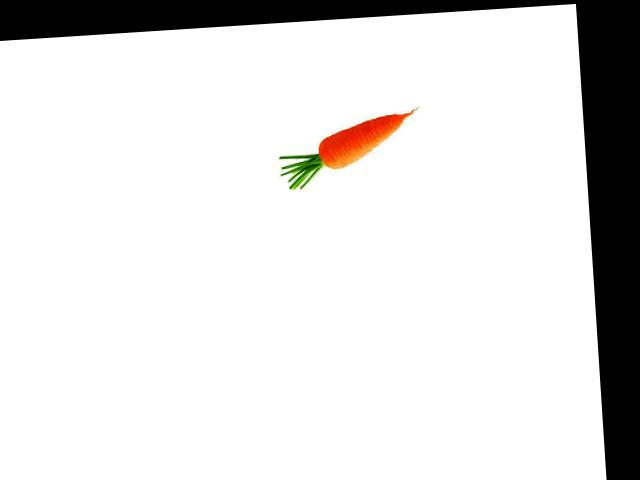carrot: (331, 107, 422, 172)
